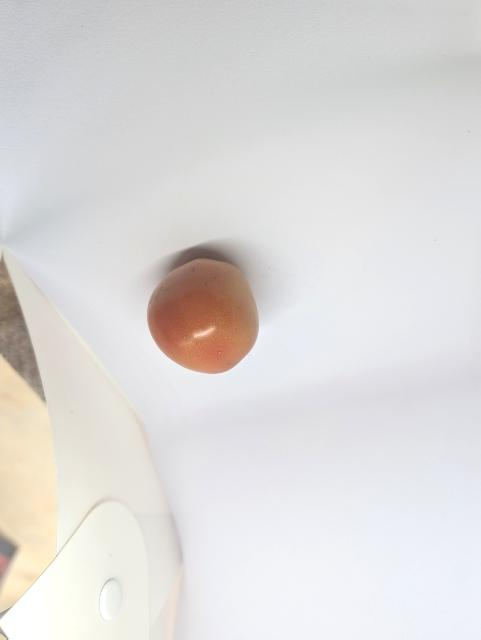red: (141, 249, 266, 377)
